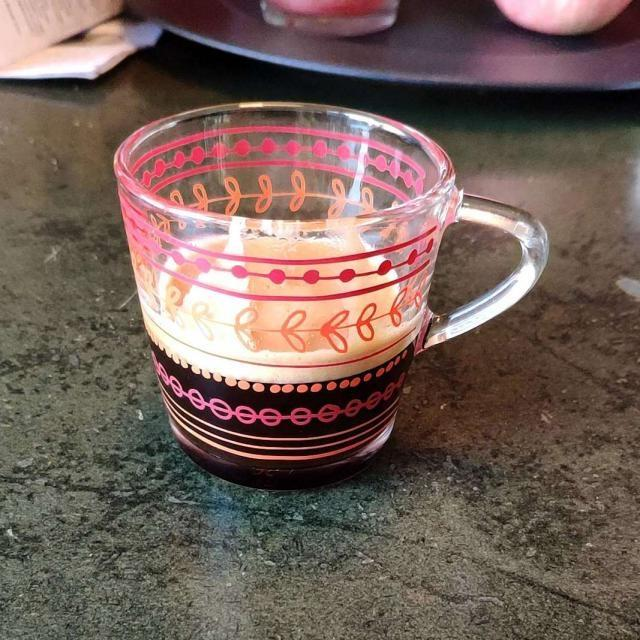coffee: (126, 137, 454, 482)
